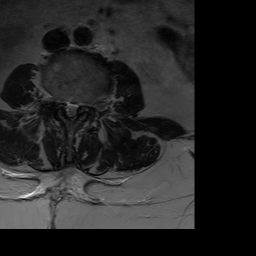CCS_severe_stenosis: (68, 97, 73, 123)
LFS_severe_stenosis: (81, 98, 89, 113)
LLS_severe_stenosis: (74, 98, 80, 114)
RFS_severe_stenosis: (54, 95, 62, 112)
RLS_stenosis: (63, 96, 69, 115)
